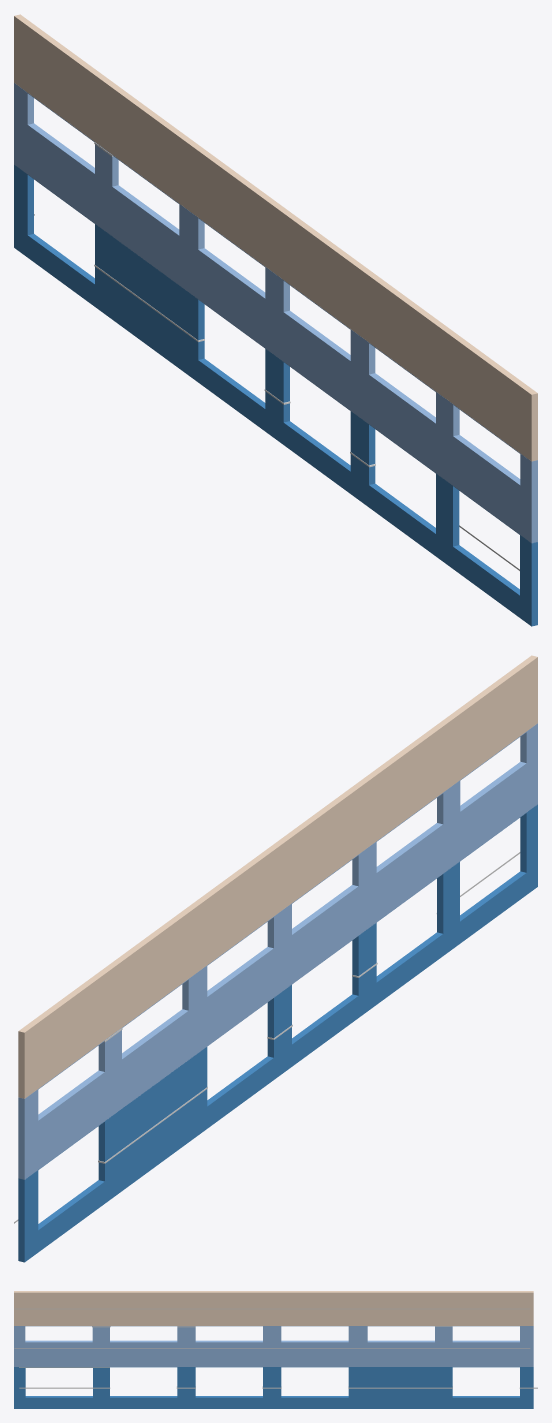
File: wall2.fbx
The picture shows the model from 3 angles, top to bottom: view 1: azimuth 30°, elevation 25°; view 2: azimuth 150°, elevation 25°; view 3: azimuth 270°, elevation 25°; orthographic projection. The views are drawn at different scales.
Visible parts, largest first — view 1: gymnasium.161, gymnasium.163, gymnasium.162; view 2: gymnasium.161, gymnasium.163, gymnasium.162; view 3: gymnasium.161, gymnasium.163, gymnasium.162, gymnasium.235, gymnasium.232, gymnasium.268, gymnasium.233.
Part boxes in pixels (x1,y1,x2,y2): gymnasium.161: (14,14,537,461); gymnasium.163: (14,83,537,543); gymnasium.162: (14,165,537,626); gymnasium.161: (18,655,537,1098); gymnasium.163: (18,723,537,1179); gymnasium.162: (18,804,537,1262); gymnasium.161: (14,1291,533,1325); gymnasium.163: (14,1326,533,1366); gymnasium.162: (14,1367,533,1408); gymnasium.235: (14,1308,529,1309); gymnasium.232: (14,1348,530,1348); gymnasium.268: (348,1386,452,1388); gymnasium.233: (19,1387,110,1388).
Bounding box in the file's own units: 32.35 × 1044 × 4263.
